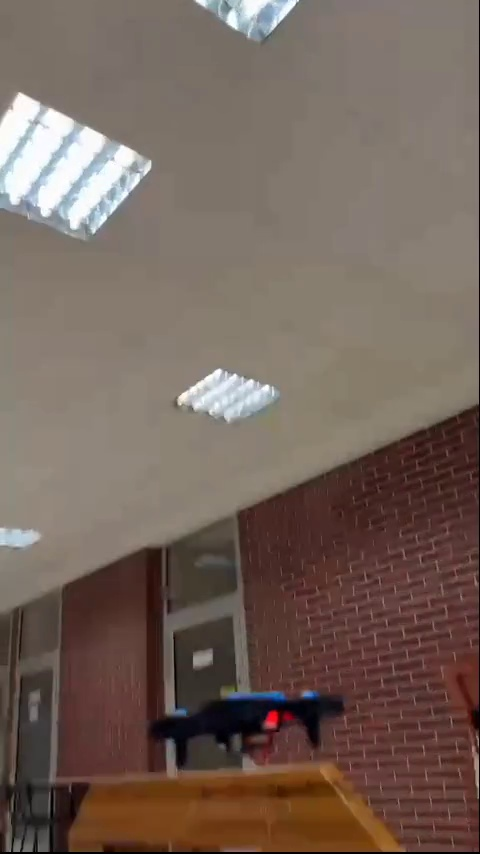drone: (150, 692, 336, 768)
